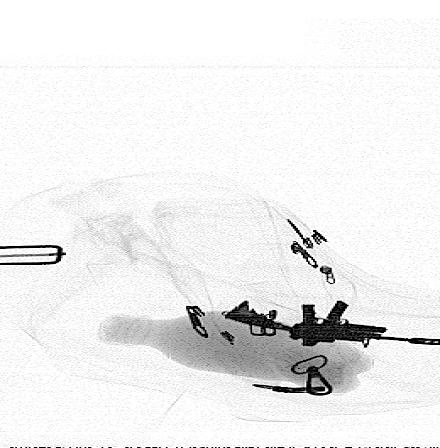Gun: (216, 299, 438, 349)
